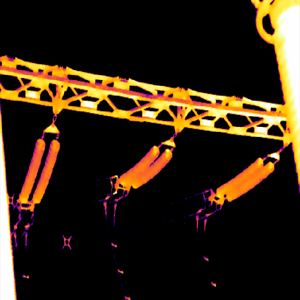insulator: (15, 137, 45, 203), (215, 156, 264, 196), (32, 138, 60, 203), (227, 161, 275, 198), (118, 145, 159, 185), (131, 149, 170, 189)
